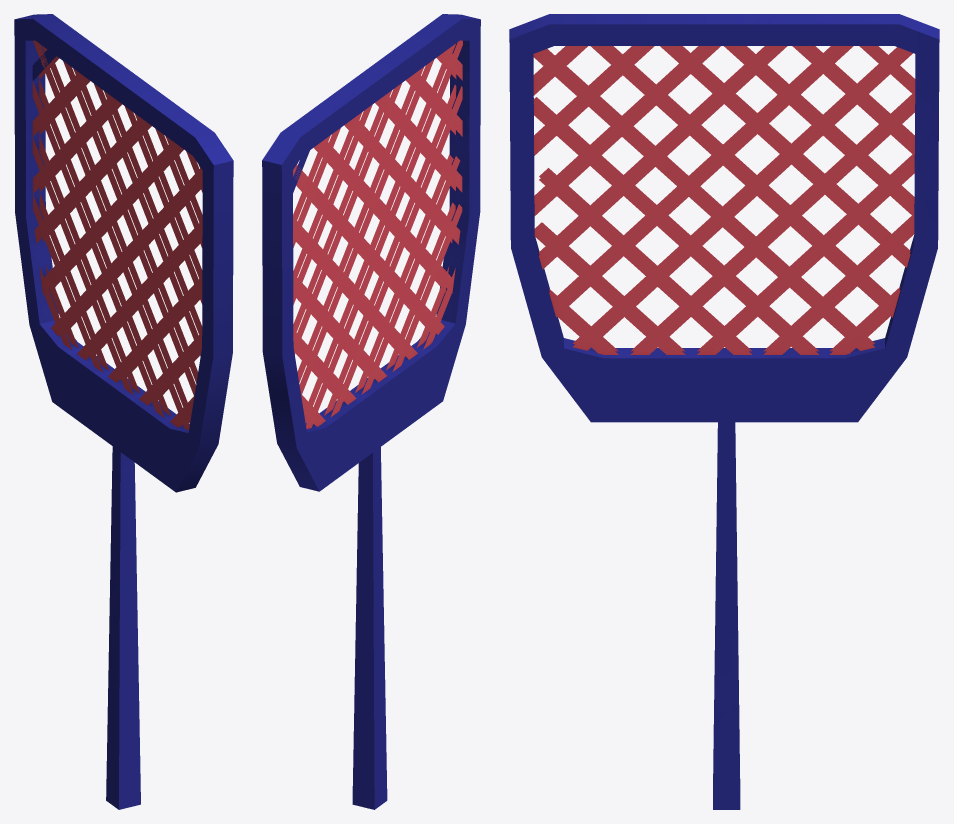
Rendered from Time_1.FBX.
The picture shows the model from 3 angles, left to right: view 1: azimuth 30°, elevation 25°; view 2: azimuth 150°, elevation 25°; view 3: azimuth 270°, elevation 25°; orthographic projection. The views are drawn at different scales.
Parts seen in each view (by area): view 1: Time_1; view 2: Time_1; view 3: Time_1.
Boxes of the visible parts, bbox=[...] form: Time_1: bbox=[14, 14, 233, 809]; Time_1: bbox=[262, 14, 480, 809]; Time_1: bbox=[509, 14, 939, 809].
Bounding box in the file's own units: 0.2024 × 6.35 × 3.15.
